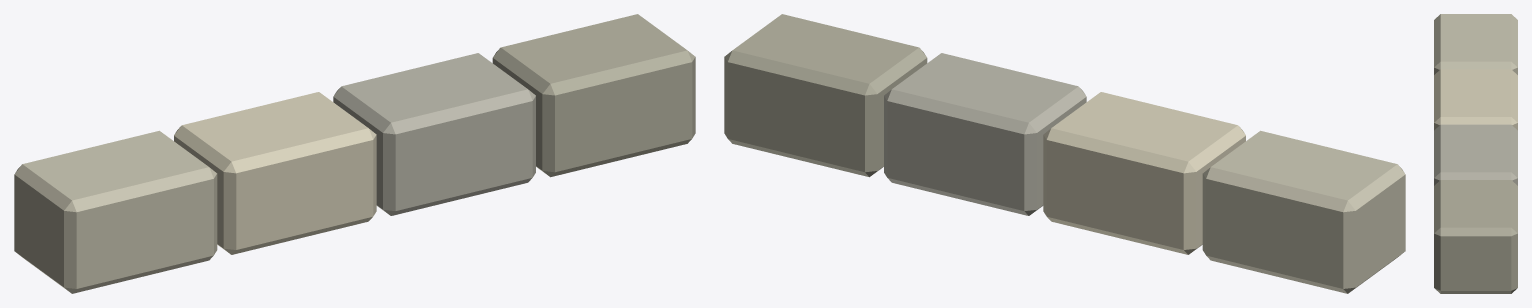
Rendered from Curb_2m.fbx.
The picture shows the model from 3 angles, left to right: view 1: azimuth 30°, elevation 25°; view 2: azimuth 150°, elevation 25°; view 3: azimuth 270°, elevation 25°; orthographic projection. The views are drawn at different scales.
Parts seen in each view (by area): view 1: Curb_2m; view 2: Curb_2m; view 3: Curb_2m.
Part boxes in pixels (x1,y1,x2,y2): Curb_2m: (14, 14, 695, 293); Curb_2m: (724, 14, 1405, 293); Curb_2m: (1434, 14, 1517, 293).
Bounding box in the file's own units: 198 × 28 × 32.
